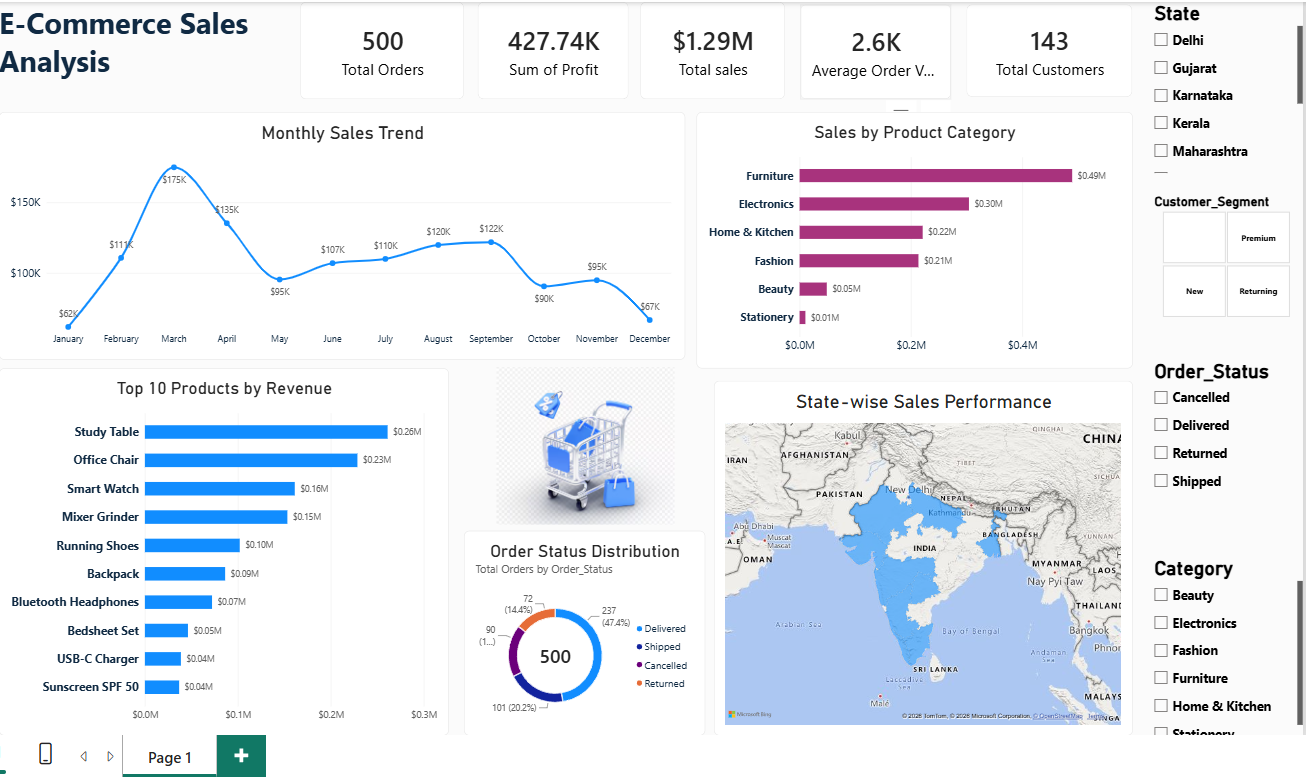

The dashboard page shown, as its layout file describes it:
{"tool":"powerbi","page":{"name":"Page 1","canvas":[1920,1080],"ordinal":0},"visuals":[{"type":"cardVisual","fields":{"Data":["ecommerce_orders.Total Customers"]},"box":[1424.5,3.7,244.8,136.2],"z":0},{"type":"cardVisual","fields":{"Data":["ecommerce_orders.Total sales"]},"box":[944.2,0,213.5,143.6],"z":1},{"type":"cardVisual","fields":{"Data":["ecommerce_orders.Average Order Value"]},"box":[1179.8,3.7,222.7,139.9],"z":3},{"type":"cardVisual","fields":{"Data":["ecommerce_orders.Total Orders"]},"box":[443.6,0,241.1,143.6],"z":4},{"type":"lineChart","title":"Monthly Sales Trend","fields":{"Category":["ecommerce_orders.Order_Date.Variation.Date Hierarchy.Month"],"Y":["ecommerce_orders.Total sales"]},"box":[0,162,1010.4,364.4],"z":5},{"type":"barChart","title":"Sales by Product Category","fields":{"Category":["ecommerce_orders.Category"],"Y":["ecommerce_orders.Total sales"]},"box":[1027,162,642.3,377.3],"z":6},{"type":"barChart","title":"Top 10 Products by Revenue","fields":{"Category":["ecommerce_orders.Product_Name"],"Y":["ecommerce_orders.Total sales"]},"box":[0,539.3,662.6,541.1],"z":7},{"type":"donutChart","title":"Order Status Distribution","fields":{"Category":["ecommerce_orders.Order_Status"],"Y":["ecommerce_orders.Total Orders"]},"box":[684.7,778.5,355.2,301.8],"z":8},{"type":"filledMap","title":"State-wise Sales Performance","fields":{"Category":["ecommerce_orders.State"]},"box":[1052.8,557.7,616.6,522.7],"z":9},{"type":"cardVisual","fields":{"Data":["Sum(ecommerce_orders.Profit)"]},"box":[704.9,0,222.7,143.6],"z":10},{"type":"slicer","fields":{"Values":["ecommerce_orders.State"]},"box":[1693.3,0,226.4,252.1],"z":11},{"type":"slicer","fields":{"Values":["ecommerce_orders.Customer_Segment"]},"box":[1693.3,283.4,226.4,182.2],"z":12},{"type":"slicer","fields":{"Values":["ecommerce_orders.Order_Status"]},"box":[1693.3,526.4,226.4,252.1],"z":13},{"type":"slicer","fields":{"Values":["ecommerce_orders.Category"]},"box":[1693.3,817.2,226.4,263.2],"z":14},{"type":"textbox","box":[0,0,444,150],"z":15},{"type":"image","box":[669.9,537.4,386.5,231.9],"z":16}]}

Visuals, with their boxes on the page's 1920x1080 design canvas (x1, y1, x2, y2). These are canvas units, not pixel positions in the 1306x777 screenshot, which may show the page scaled, cropped or inside an application window:
cardVisual - ecommerce_orders.Total Customers: x1=1424 y1=4 x2=1669 y2=140
cardVisual - ecommerce_orders.Total sales: x1=944 y1=0 x2=1158 y2=144
cardVisual - ecommerce_orders.Average Order Value: x1=1180 y1=4 x2=1402 y2=144
cardVisual - ecommerce_orders.Total Orders: x1=444 y1=0 x2=685 y2=144
"Monthly Sales Trend" lineChart: x1=0 y1=162 x2=1010 y2=526
"Sales by Product Category" barChart: x1=1027 y1=162 x2=1669 y2=539
"Top 10 Products by Revenue" barChart: x1=0 y1=539 x2=663 y2=1080
"Order Status Distribution" donutChart: x1=685 y1=778 x2=1040 y2=1080
"State-wise Sales Performance" filledMap: x1=1053 y1=558 x2=1669 y2=1080
cardVisual - Sum(ecommerce_orders.Profit): x1=705 y1=0 x2=928 y2=144
slicer - ecommerce_orders.State: x1=1693 y1=0 x2=1920 y2=252
slicer - ecommerce_orders.Customer_Segment: x1=1693 y1=283 x2=1920 y2=466
slicer - ecommerce_orders.Order_Status: x1=1693 y1=526 x2=1920 y2=778
slicer - ecommerce_orders.Category: x1=1693 y1=817 x2=1920 y2=1080
textbox: x1=0 y1=0 x2=444 y2=150
image: x1=670 y1=537 x2=1056 y2=769
